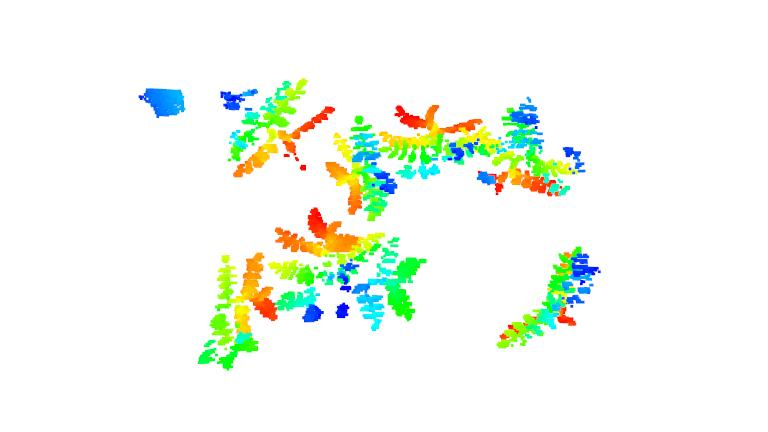chickpea: (275, 207, 428, 329), (220, 76, 336, 182), (475, 93, 588, 199), (493, 246, 604, 350), (195, 250, 281, 370), (380, 97, 484, 181), (322, 111, 395, 223)
